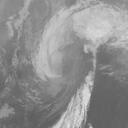cyclone: (34, 16, 97, 81)
